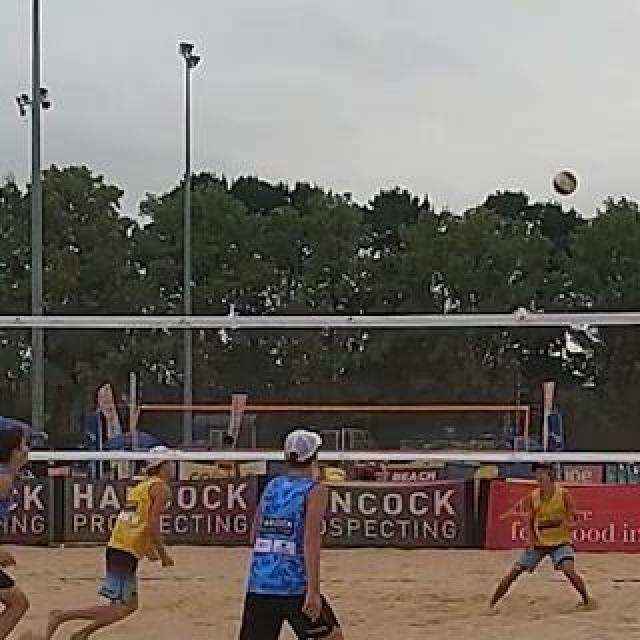volleyball: (551, 171, 577, 197)
